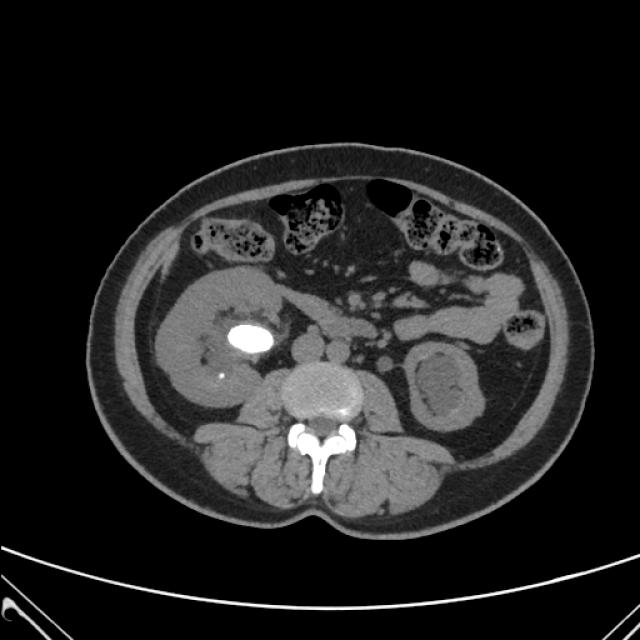kidney: (207, 303, 284, 387), (416, 356, 464, 414)
stone: (231, 328, 270, 349), (220, 374, 224, 377)
